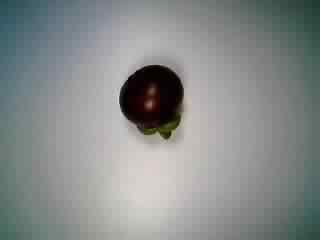mangosteen: (115, 64, 191, 142)
